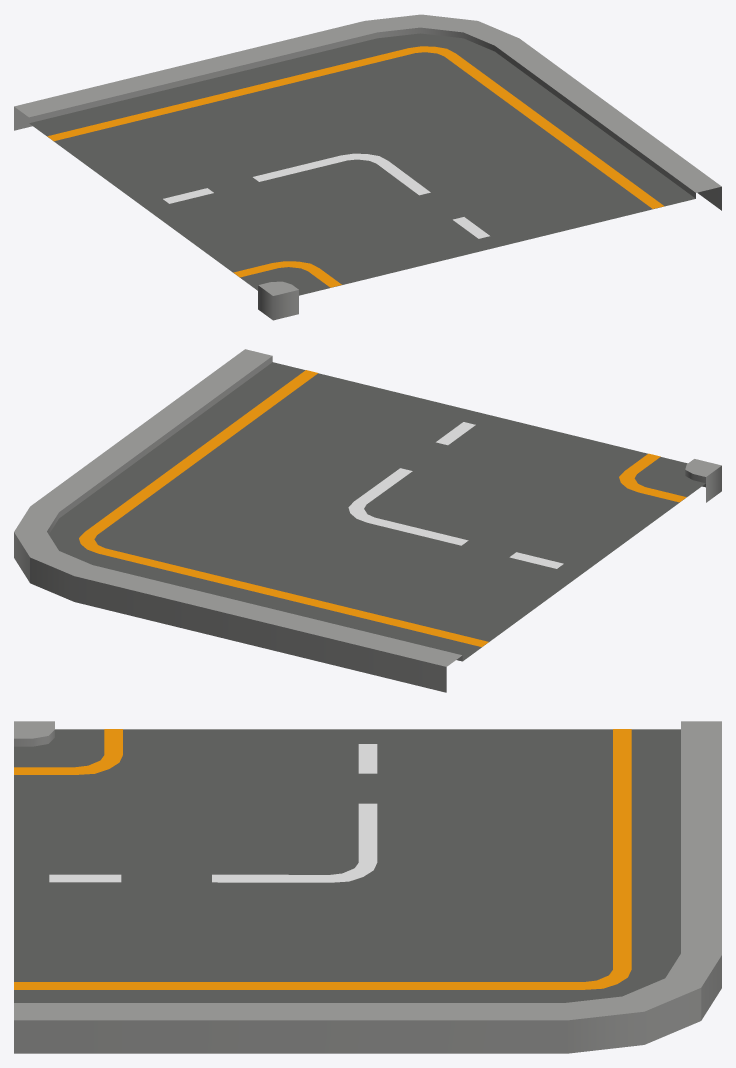
The model's file is Road_B_9.fbx.
3 views of the same model, one above another, from view 1: azimuth 30°, elevation 25°; view 2: azimuth 150°, elevation 25°; view 3: azimuth 270°, elevation 25° (orthographic). The views are drawn at different scales.
Parts seen in each view (by area): view 1: Road_B_9; view 2: Road_B_9; view 3: Road_B_9.
Part boxes in pixels (x1,y1,x2,y2): Road_B_9: (14, 14, 721, 320); Road_B_9: (14, 349, 721, 692); Road_B_9: (14, 721, 721, 1053).
Bounding box in the file's own units: 800 × 41.48 × 800.
